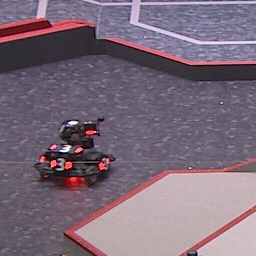Red: (48, 142, 82, 155), (50, 157, 72, 172), (97, 157, 111, 171)
Robot: (34, 118, 114, 188)
